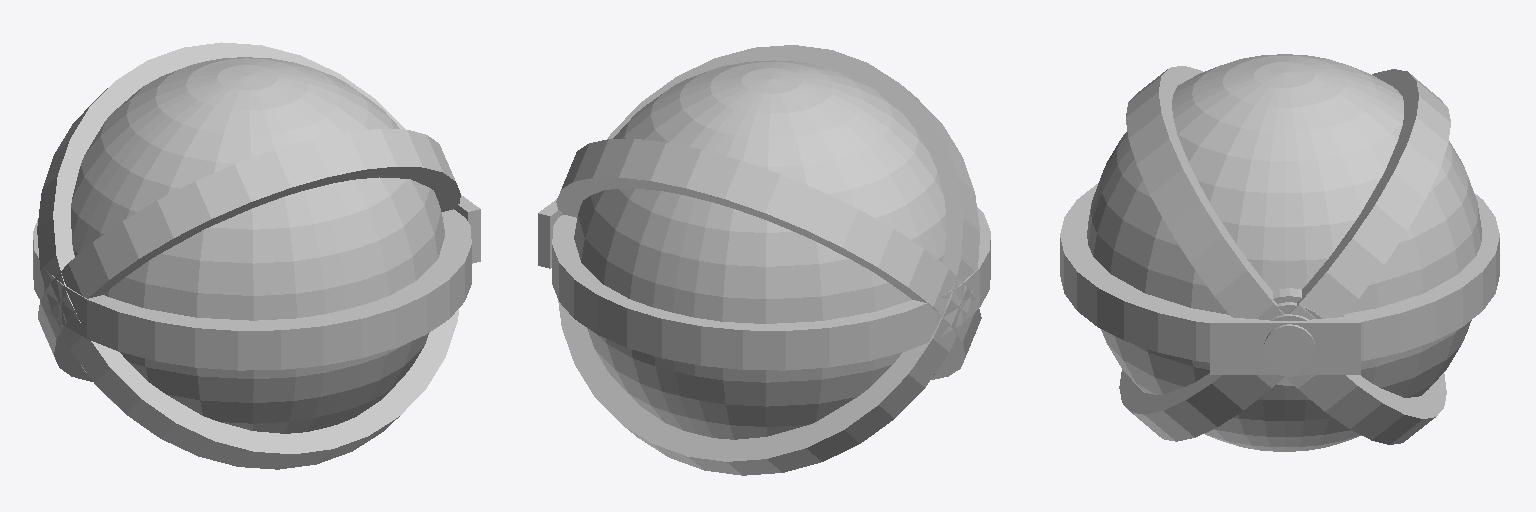
File: KinoModel.obj
3 views of the same model, side by side, from view 1: azimuth 30°, elevation 25°; view 2: azimuth 150°, elevation 25°; view 3: azimuth 270°, elevation 25° (orthographic).
Bounding box in the file's own units: 2.15 × 1.91 × 2.11.